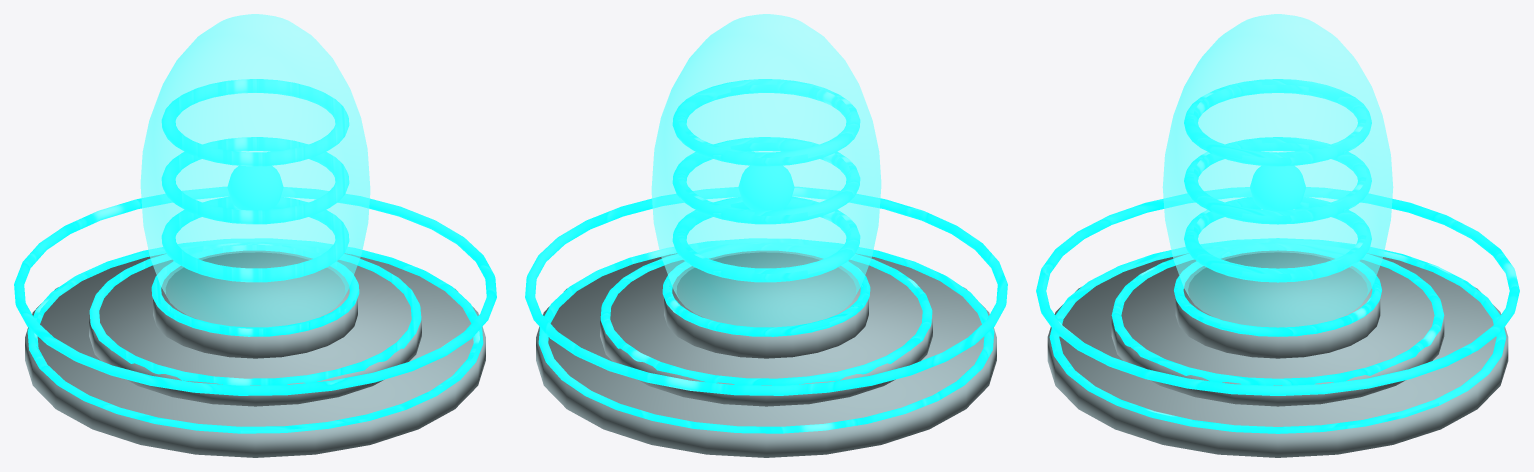
Rendered from azure_resonance_core.glb.
The picture shows the model from 3 angles, left to right: view 1: azimuth 30°, elevation 25°; view 2: azimuth 150°, elevation 25°; view 3: azimuth 270°, elevation 25°; orthographic projection.
Parts seen in each view (by area): view 1: AzureResonanceCore; view 2: AzureResonanceCore; view 3: AzureResonanceCore.
Boxes of the visible parts, bbox=[...] form: AzureResonanceCore: bbox=[14, 14, 496, 457]; AzureResonanceCore: bbox=[525, 14, 1007, 457]; AzureResonanceCore: bbox=[1036, 14, 1519, 457].
Size of the model in its own units: 3.78 by 2.93 by 3.78.
3 materials, 3 textured.
